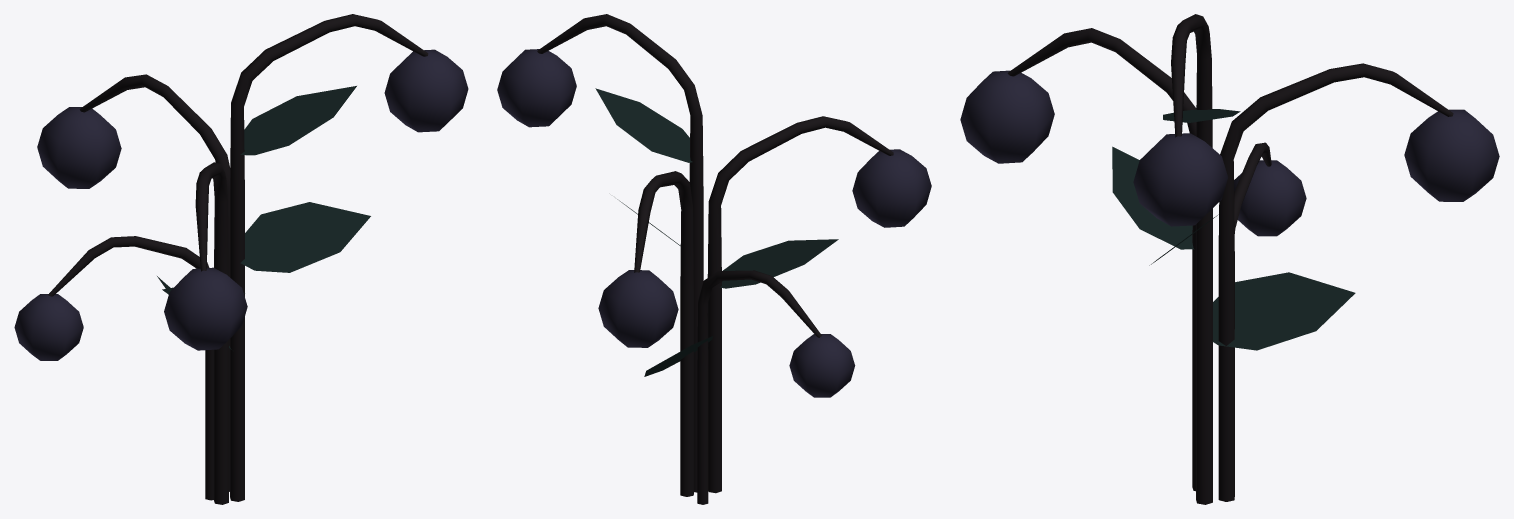
File: MM_Plant_A_Bad.fbx
3 renders of one model, left to right at view 1: azimuth 30°, elevation 25°; view 2: azimuth 150°, elevation 25°; view 3: azimuth 270°, elevation 25°, orthographic. The views are drawn at different scales.
Parts seen in each view (by area): view 1: Cylinder.021, Cylinder.014, Cylinder.013; view 2: Cylinder.021, Cylinder.013, Cylinder.012, Cylinder.015; view 3: Cylinder.021, Cylinder.015, Cylinder.012, Cylinder.013.
Part boxes in pixels (x1=…): Cylinder.021: x1=14, y1=14, x2=468, y2=504; Cylinder.014: x1=240, y1=202, x2=370, y2=272; Cylinder.013: x1=240, y1=86, x2=356, y2=155; Cylinder.021: x1=497, y1=14, x2=931, y2=504; Cylinder.013: x1=595, y1=88, x2=692, y2=162; Cylinder.012: x1=720, y1=239, x2=838, y2=288; Cylinder.015: x1=644, y1=336, x2=713, y2=376; Cylinder.021: x1=960, y1=14, x2=1499, y2=504; Cylinder.015: x1=1212, y1=272, x2=1355, y2=350; Cylinder.012: x1=1112, y1=146, x2=1194, y2=249; Cylinder.013: x1=1163, y1=109, x2=1240, y2=122.
Size of the model in its own units: 48.61 by 54.62 by 50.46.
